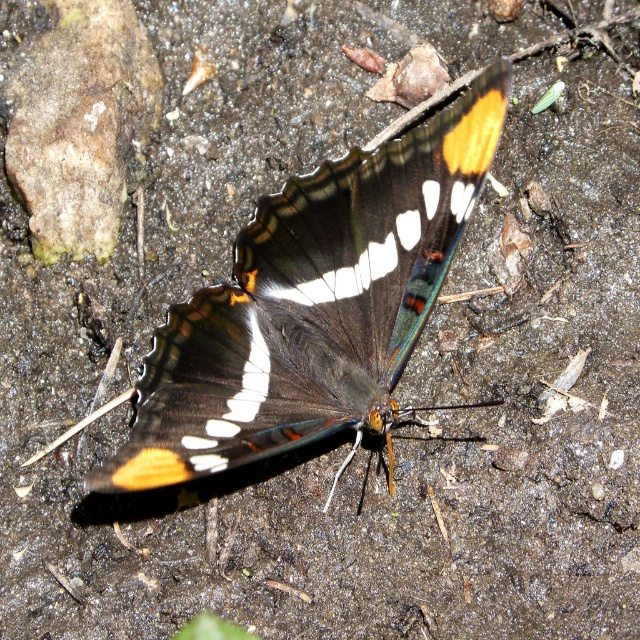Butterfly: (98, 79, 507, 563)
